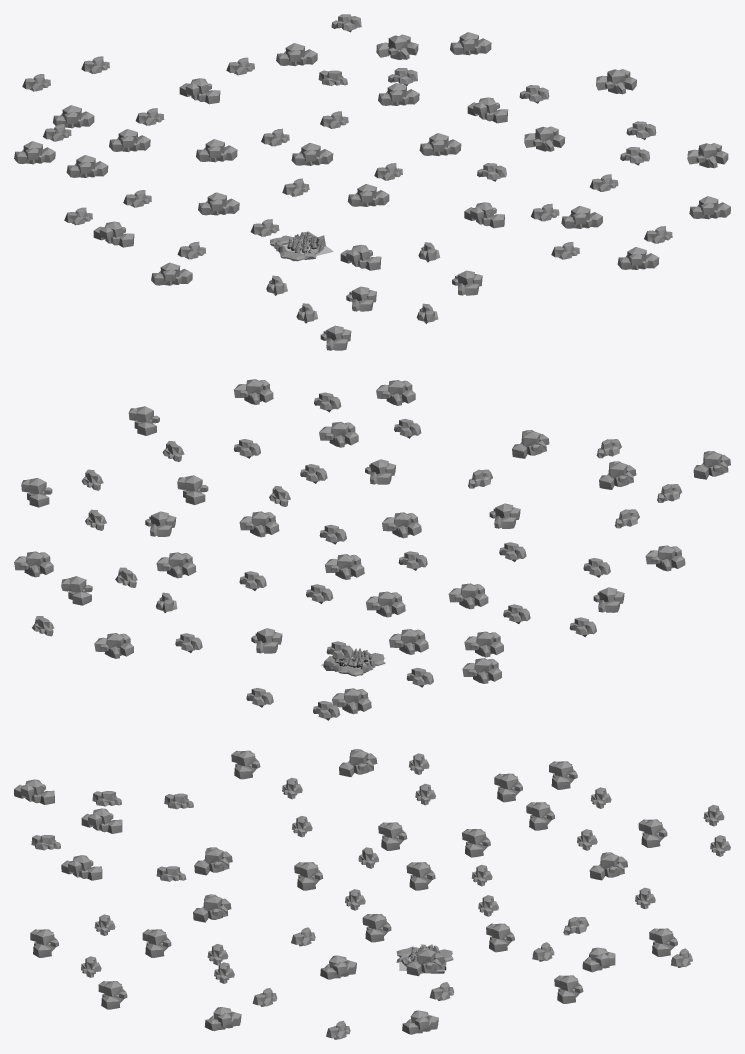
The picture shows the model from 3 angles, top to bottom: view 1: azimuth 30°, elevation 25°; view 2: azimuth 150°, elevation 25°; view 3: azimuth 270°, elevation 25°; orthographic projection.
Parts seen in each view (by area): view 1: Cloud_03_1, Cloud_02_1; view 2: Cloud_03_1, Cloud_02_1; view 3: Cloud_03_1, Cloud_02_1.
Part boxes in pixels (<box>): Cloud_03_1: <box>14,32,730,350</box>; Cloud_02_1: <box>22,14,672,323</box>; Cloud_03_1: <box>14,379,730,714</box>; Cloud_02_1: <box>32,392,681,720</box>; Cloud_03_1: <box>14,749,677,1034</box>; Cloud_02_1: <box>31,753,730,1039</box>.
Size of the model in its own units: 35.3 by 6.46 by 38.74.
3 materials, 2 textured.
